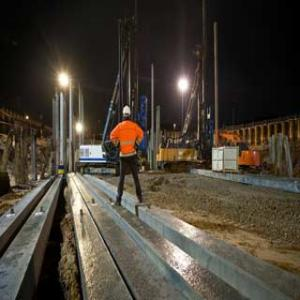white: (121, 103, 132, 121)
